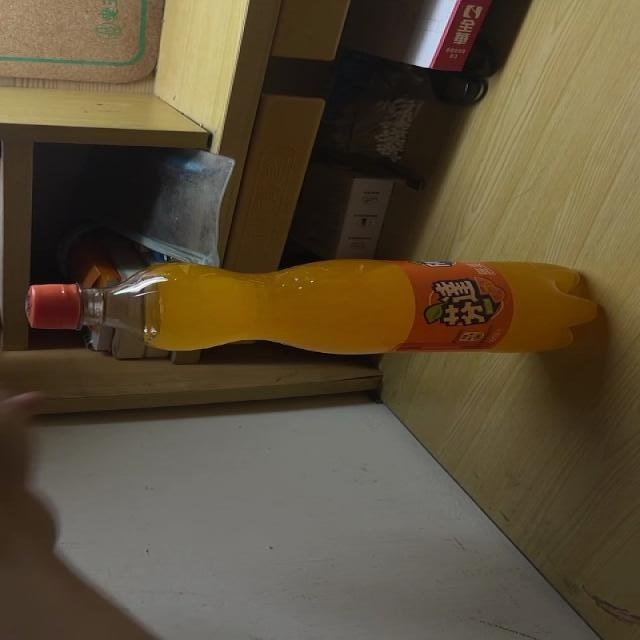Fanta: (26, 258, 598, 355)
